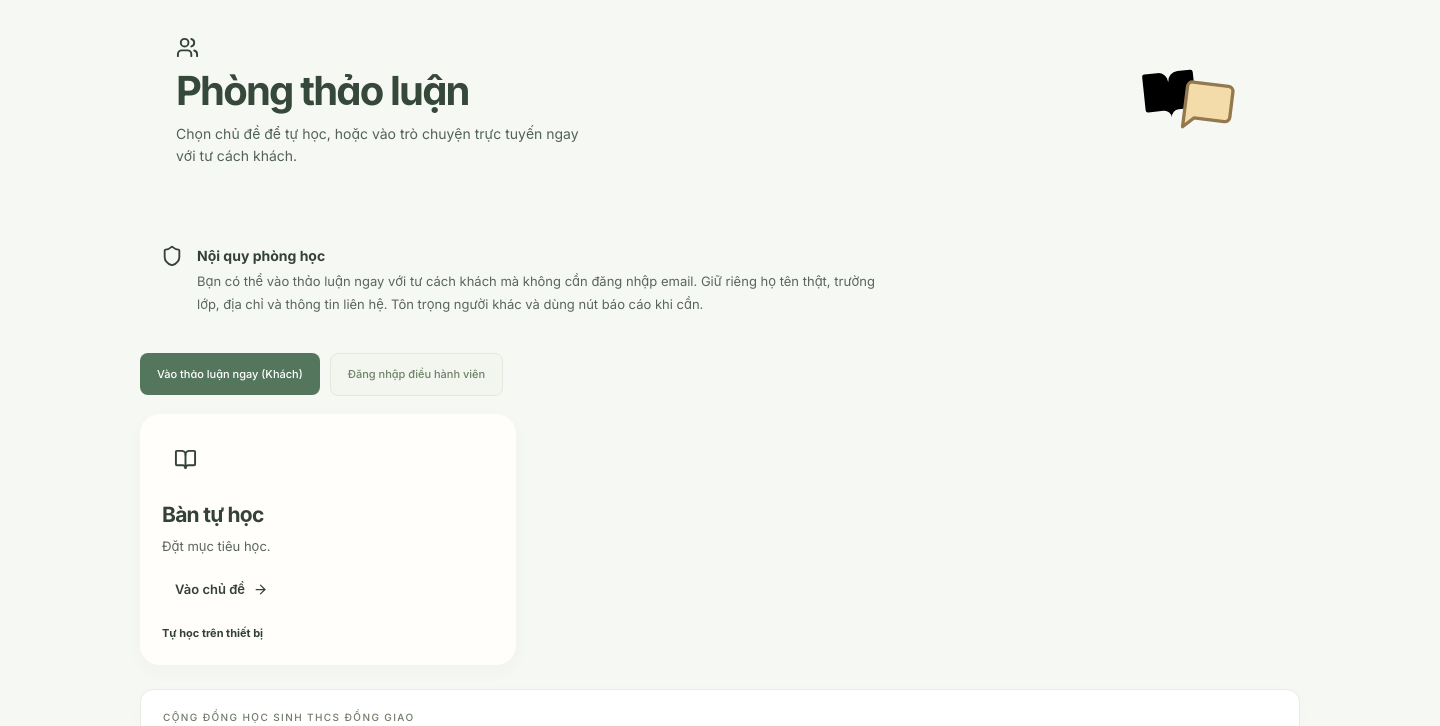
Test case: discussion room entry › lets guests enter live chat in one click without email auth while keeping moderator sign-in optional
The width and height of the screenshot is (1440, 726).
Click the button "Vào thảo luận ngay (Khách)". click: (230, 374)
box: top-left (140, 354), bottom-right (320, 396)
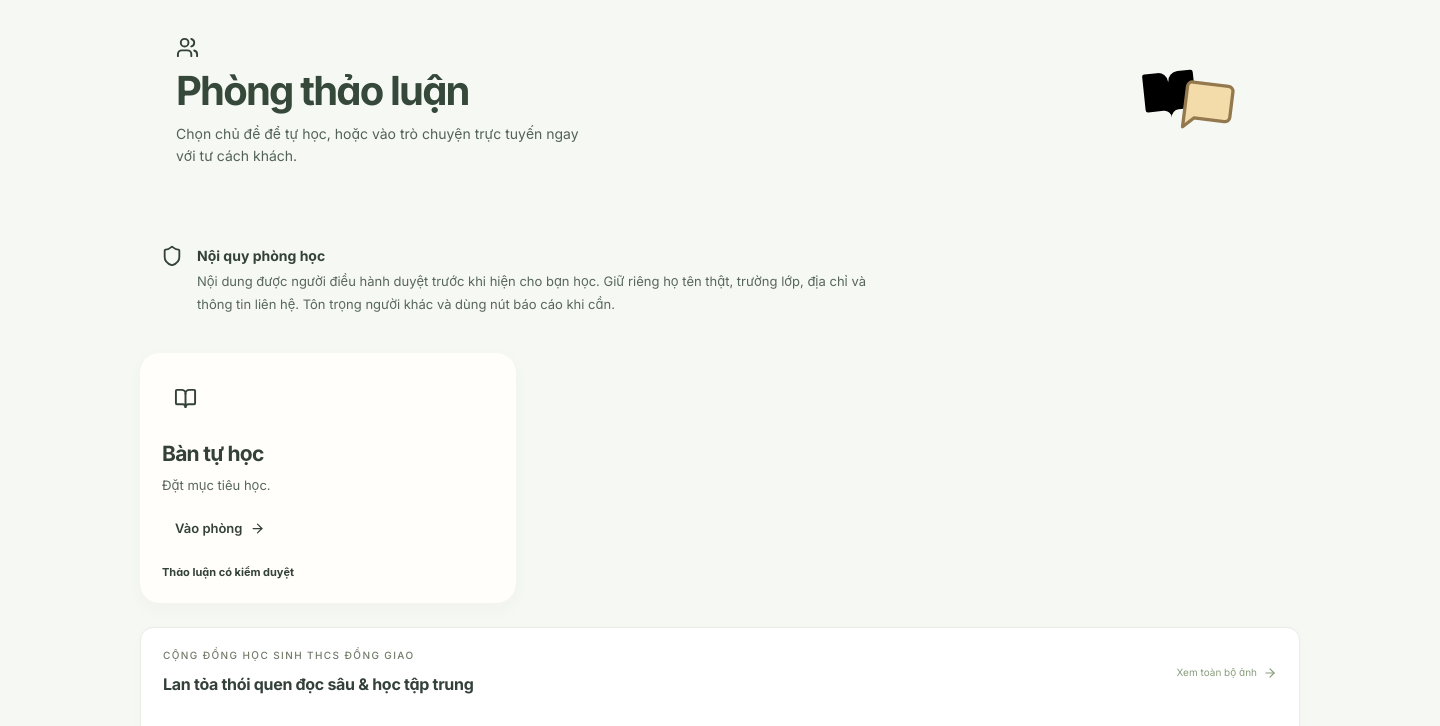
Now the button "Vào phòng" is shown, box top-left (162, 509), bottom-right (278, 547)
